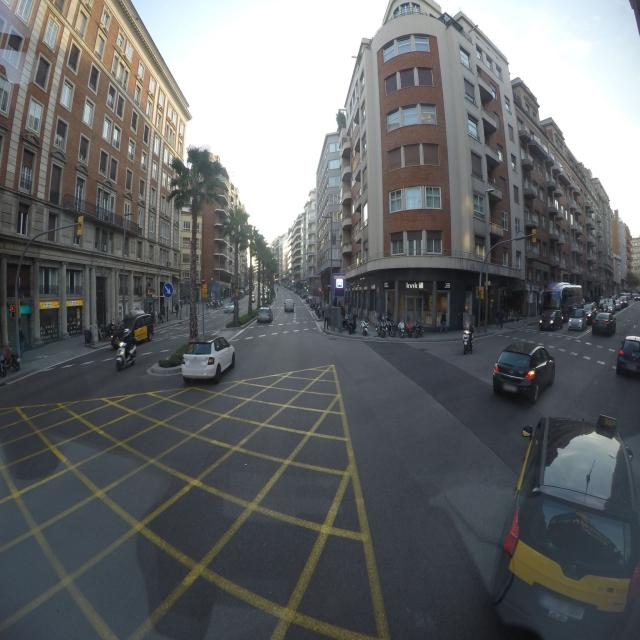bike: (115, 342, 137, 370), (462, 330, 473, 356), (376, 314, 387, 338), (360, 314, 371, 336), (348, 311, 358, 335), (414, 316, 424, 338), (386, 316, 396, 337), (398, 317, 406, 339), (406, 318, 413, 338)
car: (489, 392, 640, 640), (492, 341, 556, 405), (181, 335, 236, 384), (616, 334, 640, 381), (592, 312, 616, 336), (539, 308, 563, 332), (567, 311, 587, 332), (583, 303, 597, 325), (257, 307, 273, 324), (604, 298, 616, 312), (224, 300, 234, 312), (284, 300, 294, 312), (613, 300, 623, 310)
